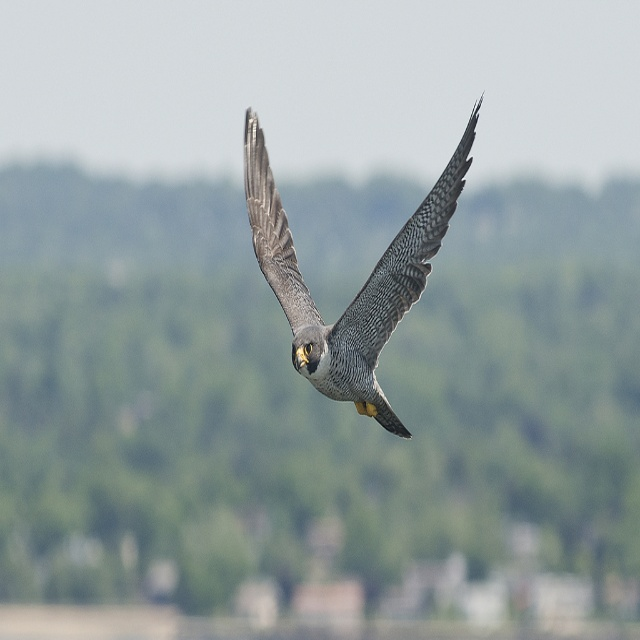Eagle: (242, 95, 487, 442)
